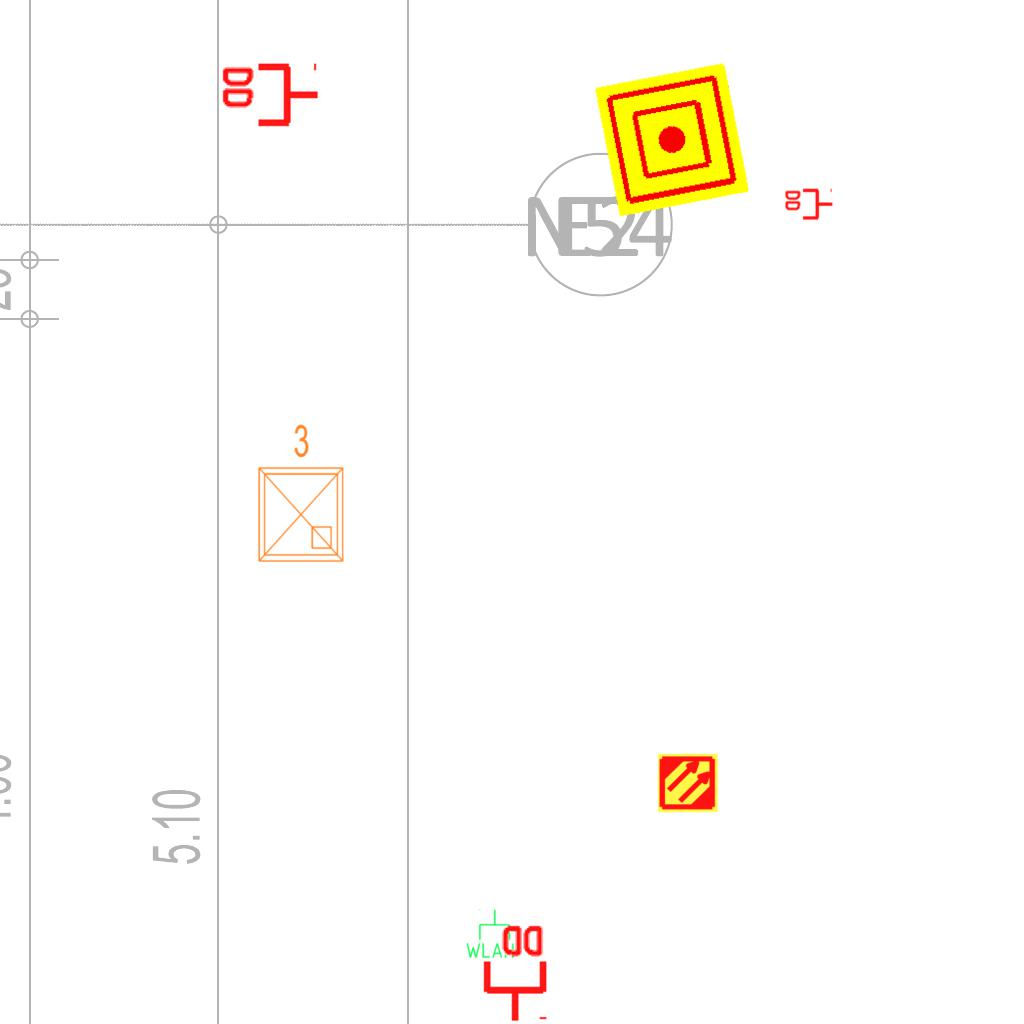ASR_Ansaugrauchmelder: (657, 752, 719, 814)
Datenanschluss_zweifach: (218, 62, 321, 131), (479, 921, 548, 1024), (783, 188, 834, 222)
Einbaudownlights_LED_Konferenzraeume: (247, 419, 351, 569)
NAM-Nichtautomatischer_Melder: (594, 62, 750, 218)
WLAN: (464, 908, 516, 960)
